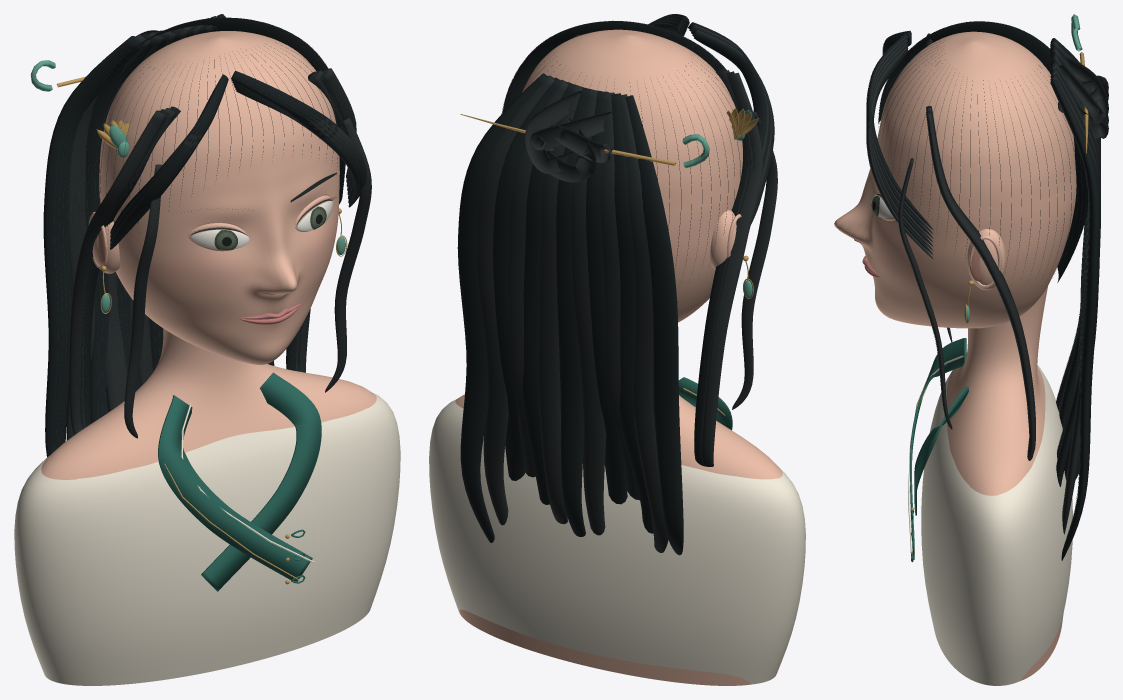
The model's file is qingheng-head-study-v2.glb.
3 views of the same model, side by side, from view 1: azimuth 30°, elevation 25°; view 2: azimuth 150°, elevation 25°; view 3: azimuth 270°, elevation 25° (orthographic). The views are drawn at different scales.
Parts seen in each view (by area): view 1: QH2_Ivory_shoulder_silk.001_web, QH2_Face_continuous_sculpt.001_web, QH2_Brow_fiber_-1_0.001_web, QH2_Brow_shape_-1.001_web, QH2_Neck_shoulders.001_web, QH2_Cross_collar_under.001_web, QH2_Back_hair_00_fiber_0.001_web, QH2_Hairpin_shaft.001_web, QH2_Hairpin_jade_head.001_web, QH2_Sclera_almond_-1.001_web, QH2_Radial_iris_-1.001_web; view 2: QH2_Ivory_shoulder_silk.001_web, QH2_Brow_fiber_-1_0.001_web, QH2_Brow_shape_-1.001_web, QH2_Face_continuous_sculpt.001_web, QH2_Neck_shoulders.001_web, QH2_Hairpin_shaft.001_web, QH2_Cross_collar_under.001_web, QH2_Hairpin_jade_head.001_web; view 3: QH2_Face_continuous_sculpt.001_web, QH2_Ivory_shoulder_silk.001_web, QH2_Brow_shape_-1.001_web, QH2_Brow_fiber_-1_0.001_web, QH2_Neck_shoulders.001_web, QH2_Back_hair_00_fiber_0.001_web, QH2_Cross_collar_under.001_web.
Part boxes in pixels (x1,y1,x2,y2): QH2_Ivory_shoulder_silk.001_web: [14, 393, 400, 685]; QH2_Face_continuous_sculpt.001_web: [99, 31, 339, 364]; QH2_Brow_fiber_-1_0.001_web: [43, 14, 354, 457]; QH2_Brow_shape_-1.001_web: [66, 16, 371, 440]; QH2_Neck_shoulders.001_web: [41, 195, 376, 479]; QH2_Cross_collar_under.001_web: [158, 372, 321, 591]; QH2_Back_hair_00_fiber_0.001_web: [53, 21, 369, 449]; QH2_Hairpin_shaft.001_web: [56, 76, 347, 584]; QH2_Hairpin_jade_head.001_web: [30, 60, 345, 312]; QH2_Sclera_almond_-1.001_web: [189, 201, 332, 249]; QH2_Radial_iris_-1.001_web: [214, 206, 326, 249]; QH2_Ivory_shoulder_silk.001_web: [429, 399, 805, 684]; QH2_Brow_fiber_-1_0.001_web: [457, 14, 774, 555]; QH2_Brow_shape_-1.001_web: [477, 15, 777, 552]; QH2_Face_continuous_sculpt.001_web: [522, 29, 742, 322]; QH2_Neck_shoulders.001_web: [455, 210, 782, 685]; QH2_Hairpin_shaft.001_web: [460, 108, 758, 416]; QH2_Cross_collar_under.001_web: [678, 377, 732, 430]; QH2_Hairpin_jade_head.001_web: [682, 109, 752, 298]; QH2_Face_continuous_sculpt.001_web: [834, 31, 1076, 328]; QH2_Ivory_shoulder_silk.001_web: [908, 355, 1072, 685]; QH2_Brow_shape_-1.001_web: [867, 23, 1108, 534]; QH2_Brow_fiber_-1_0.001_web: [867, 21, 1100, 560]; QH2_Neck_shoulders.001_web: [878, 192, 1063, 680]; QH2_Back_hair_00_fiber_0.001_web: [866, 23, 1098, 547]; QH2_Cross_collar_under.001_web: [910, 338, 968, 562].
Bounding box in the file's own units: 1.74 × 2.71 × 1.17.
